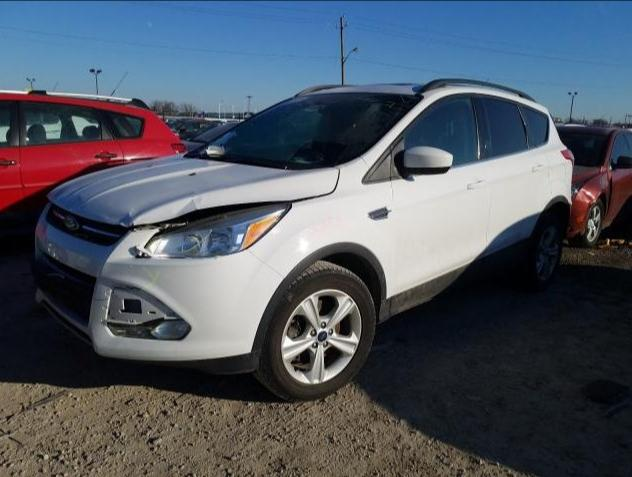Broken part: (89, 229, 282, 361), (146, 203, 289, 258), (130, 198, 298, 237)
Dent: (133, 195, 201, 226), (43, 239, 66, 263), (107, 211, 131, 226), (61, 198, 82, 212)
Missing part: (107, 283, 191, 340)
